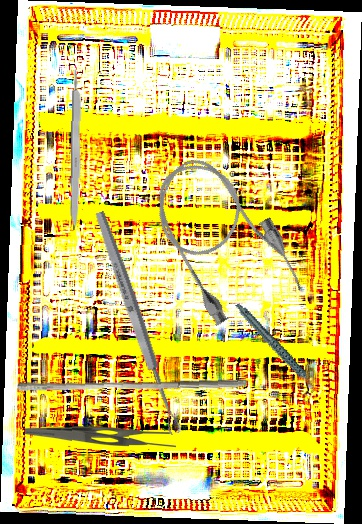Cannula: (136, 139, 310, 337)
Dressing Forceps: (24, 424, 177, 453)
Handpiece: (235, 290, 317, 406)
Pusher: (16, 369, 249, 400)
Scalpel Handle: (69, 68, 84, 231)
Surgical Spoon: (92, 209, 183, 437)
